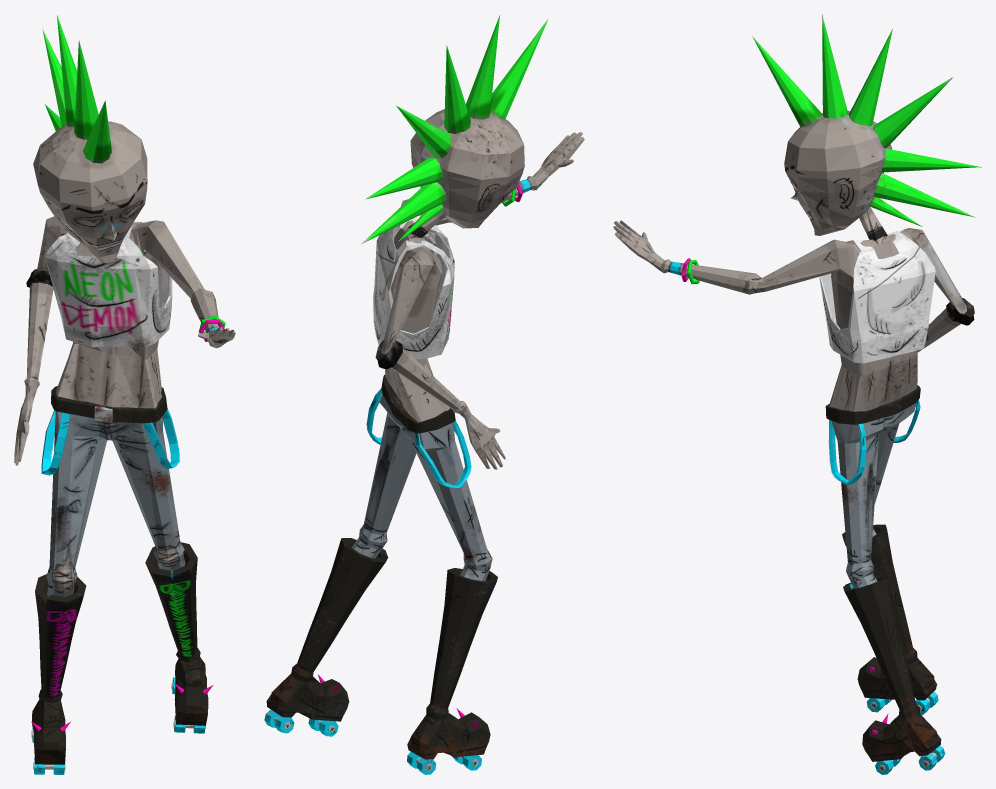
The model's file is punkAnimation_000023.obj.
The picture shows the model from 3 angles, left to right: view 1: azimuth 30°, elevation 25°; view 2: azimuth 150°, elevation 25°; view 3: azimuth 270°, elevation 25°; orthographic projection. The views are drawn at different scales.
Visible parts, largest first — view 1: Cube.004_Cube.003; view 2: Cube.004_Cube.003; view 3: Cube.004_Cube.003.
Part boxes in pixels (<box>): Cube.004_Cube.003: <box>14,15,235,774</box>; Cube.004_Cube.003: <box>264,15,584,774</box>; Cube.004_Cube.003: <box>613,14,981,774</box>.
Size of the model in its own units: 2.23 by 7.42 by 3.58.
